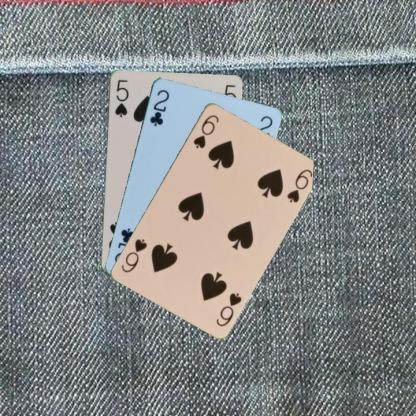2c: (147, 86, 170, 127)
5s: (112, 77, 130, 118)
6s: (190, 112, 220, 150), (213, 290, 243, 327)
